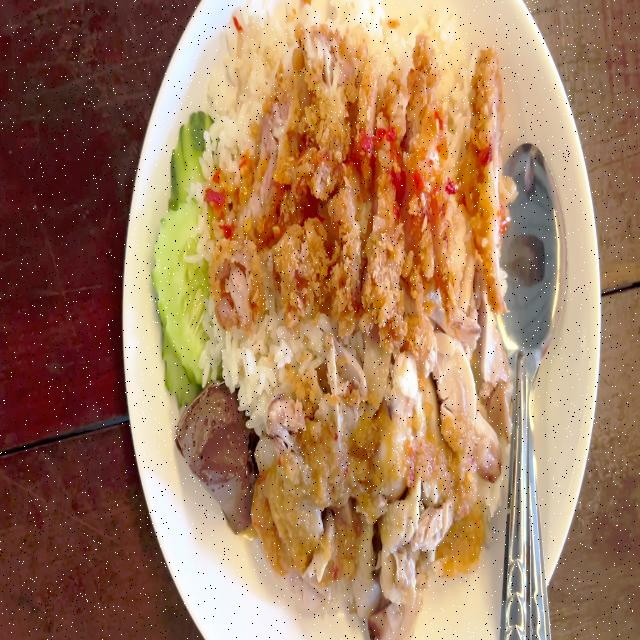boiled_chicken: (268, 339, 497, 621)
boiled_chicken_blood_jelly: (175, 378, 253, 538)
chicken_rice: (155, 0, 517, 631)
cucumber: (156, 114, 217, 398)
fried_chicken: (209, 33, 504, 318)
